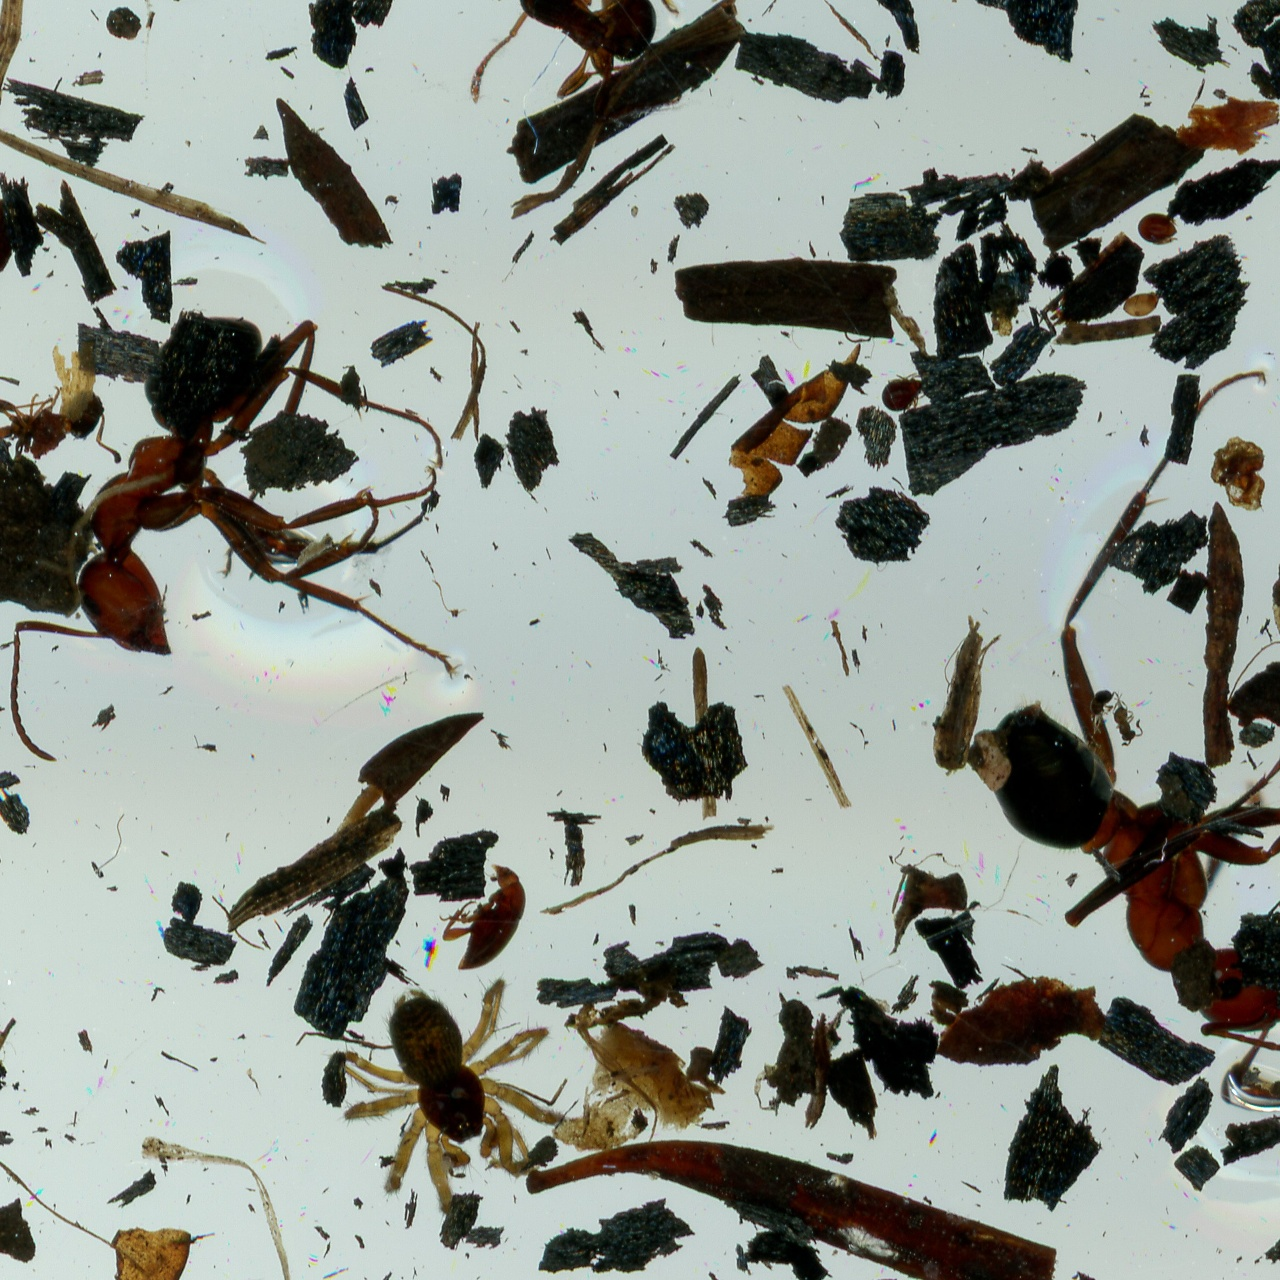arthropod: (969, 358, 1280, 1108), (2, 308, 470, 779), (316, 967, 577, 1219), (461, 0, 737, 128), (423, 847, 539, 988), (0, 381, 124, 474), (1107, 690, 1148, 749), (879, 372, 928, 416), (1137, 210, 1184, 247)
